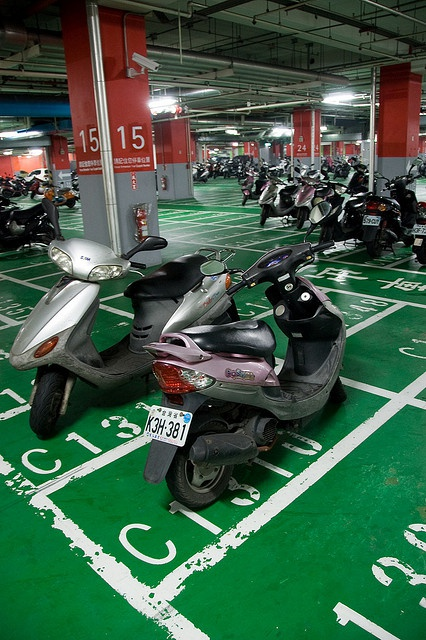non-vehicle: (141, 201, 347, 509), (7, 233, 232, 441), (358, 157, 426, 258), (0, 197, 66, 255), (291, 166, 338, 228), (258, 174, 301, 226), (239, 168, 266, 205), (42, 181, 79, 208), (411, 201, 426, 265), (258, 160, 280, 181), (236, 162, 254, 182)
